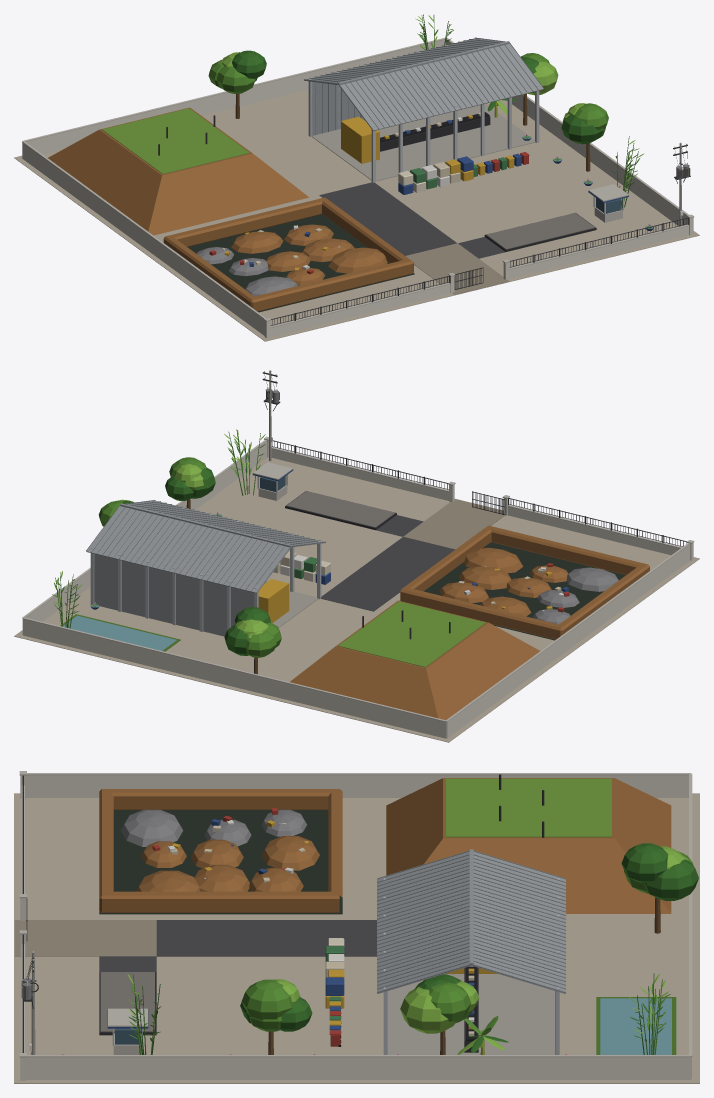
The model's file is waste.glb.
3 renders of one model, top to bottom at view 1: azimuth 30°, elevation 25°; view 2: azimuth 150°, elevation 25°; view 3: azimuth 270°, elevation 25°, orthographic. The views are drawn at different scales.
Parts seen in each view (by area): view 1: body; view 2: body; view 3: body.
Part boxes in pixels (bbox=[...]): body: bbox=[14, 14, 699, 341]; body: bbox=[14, 370, 699, 742]; body: bbox=[14, 771, 699, 1083].
Size of the model in its own units: 48.75 by 9.53 by 47.9.
